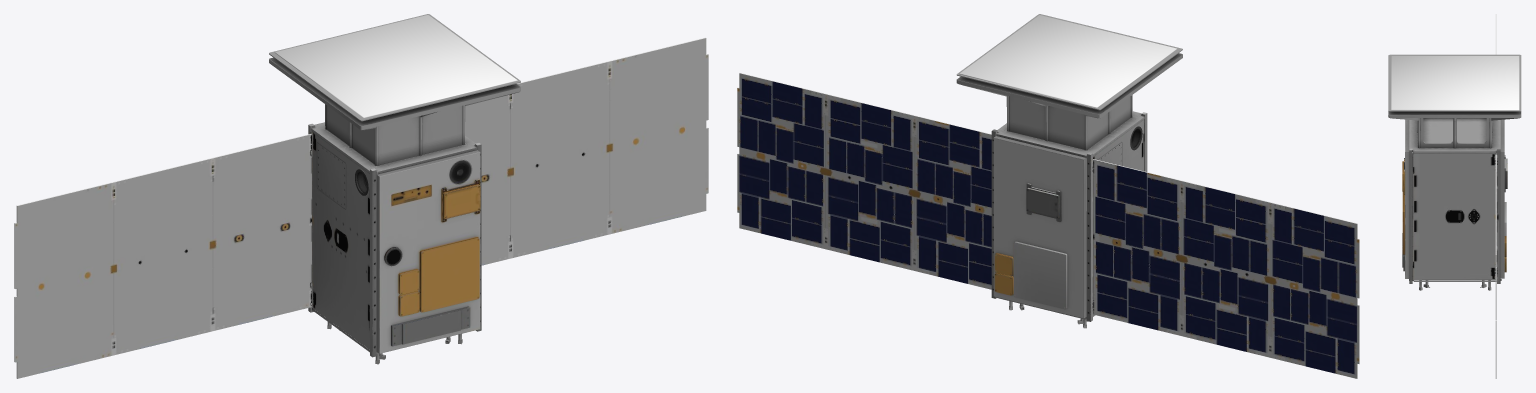
The model's file is capstone.glb.
The picture shows the model from 3 angles, left to right: view 1: azimuth 30°, elevation 25°; view 2: azimuth 150°, elevation 25°; view 3: azimuth 270°, elevation 25°; orthographic projection. The views are drawn at different scales.
Visible parts, largest first — view 1: array, bus, foil, ao; view 2: array, bus, foil, ao; view 3: bus, foil, ao, array, thrusters.
Boxes of the visible parts, bbox=[...] form: array: bbox=[14, 37, 708, 378]; bus: bbox=[308, 122, 481, 357]; foil: bbox=[274, 15, 517, 117]; ao: bbox=[269, 14, 520, 354]; array: bbox=[737, 73, 1359, 378]; bus: bbox=[991, 111, 1147, 321]; foil: bbox=[959, 15, 1176, 107]; ao: bbox=[956, 14, 1182, 319]; bus: bbox=[1402, 119, 1507, 283]; foil: bbox=[1391, 56, 1519, 110]; ao: bbox=[1388, 54, 1521, 281]; array: bbox=[1495, 14, 1496, 378]; thrusters: bbox=[1419, 280, 1491, 290].
Bounding box in the file's own units: 1.43 × 0.5294 × 0.3305.
5 materials, 3 textured.
